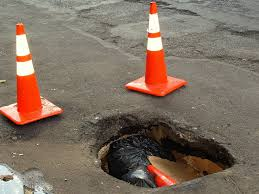pothole: (66, 109, 244, 186)
